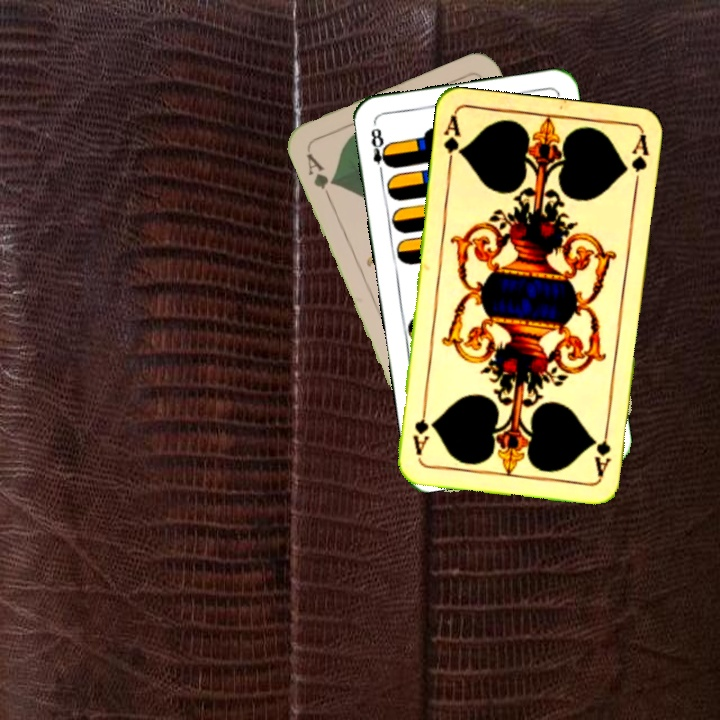E8: (366, 124, 394, 179)
GA: (302, 149, 338, 203), (439, 111, 465, 171), (590, 421, 613, 480)
